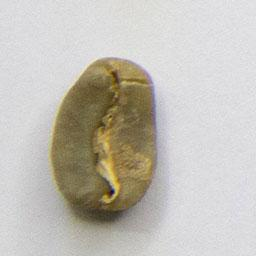longberry: (47, 52, 162, 216)
